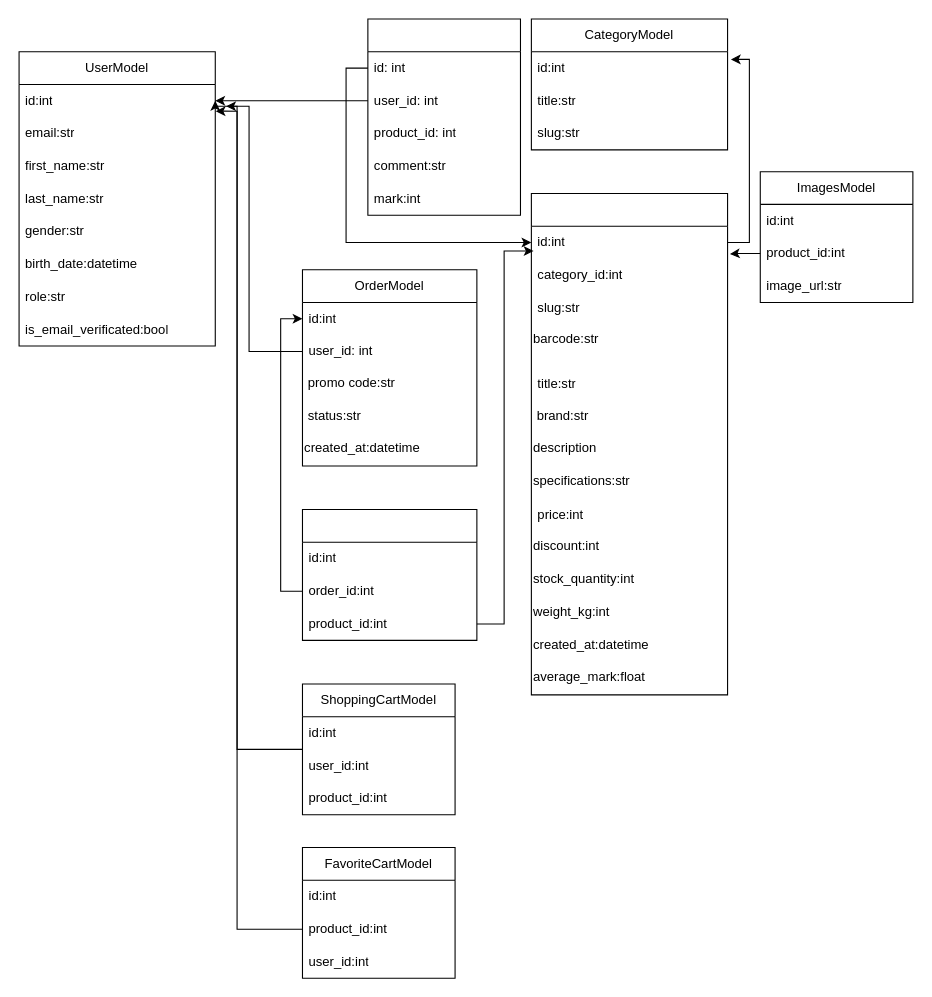
The diagram is 932 pixels wide and 997 high, and some of its shapes have lost their labels. Here are the shapes that lost their labels. From the top down, the box of each, then its label:
(367, 18, 520, 215): ReviewModel
(530, 192, 728, 695): ProductModel
(301, 508, 477, 640): OrderItemModel
